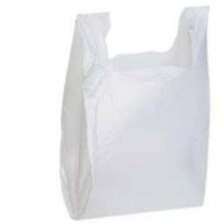plastic_bag: (56, 2, 215, 223)
